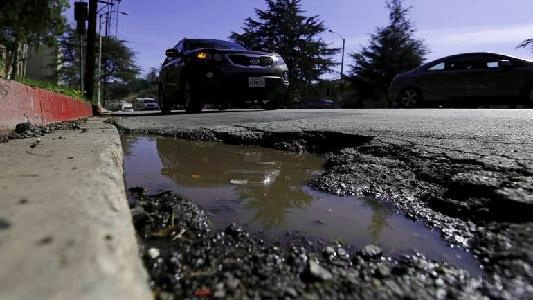pothole: (112, 123, 530, 298)
